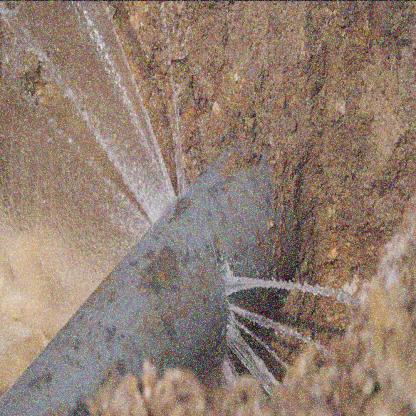burst: (213, 243, 298, 397), (109, 161, 195, 240)
